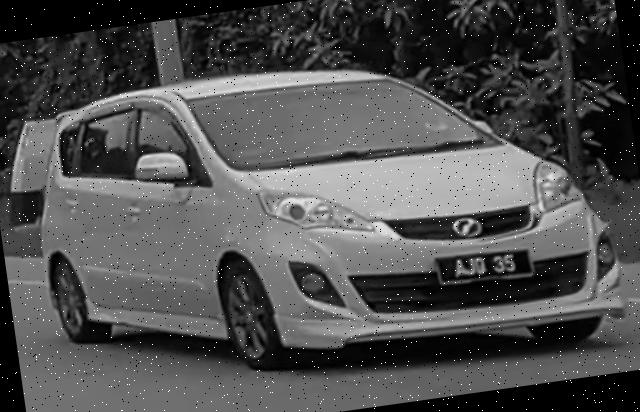License_Plate: (432, 244, 536, 291)
car: (19, 22, 632, 412)
